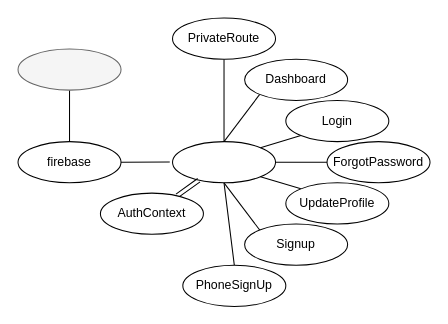
Image size: 448x324. Some labels were removed from this diagram. The shapes that lost their labels are listed below. From the top down, each one's box as (x1, y1, x2, y2) in pixels, then its label:
(17, 48, 121, 90): .env.local
(171, 141, 276, 183): App
